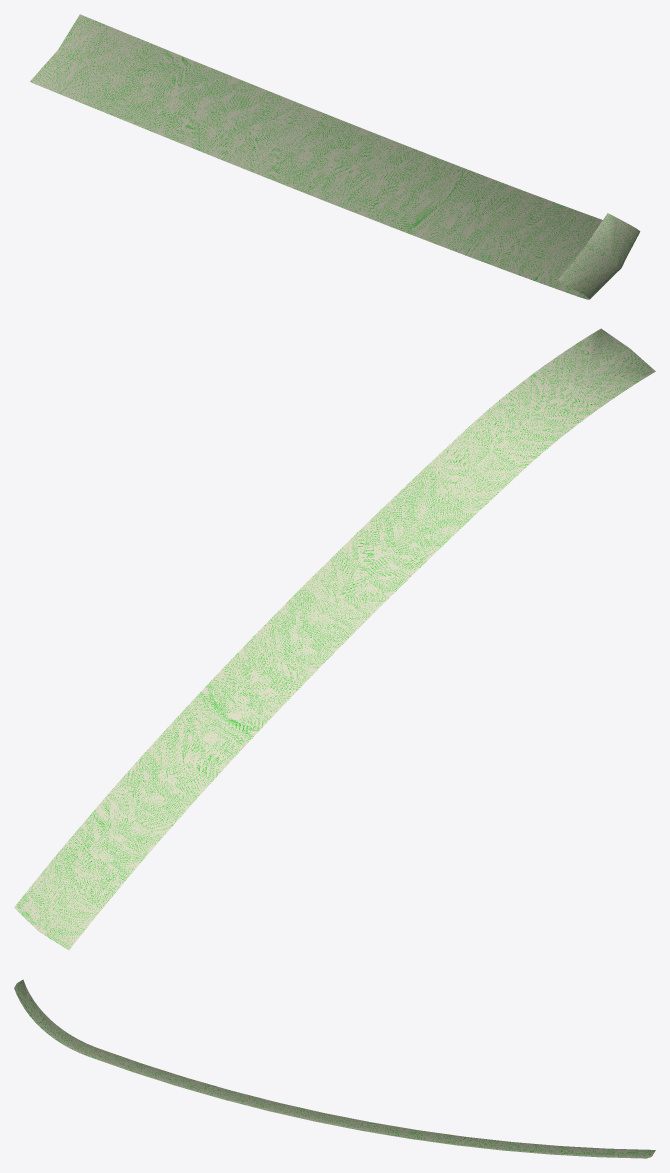
Rendered from original-85.obj.
3 renders of one model, top to bottom at view 1: azimuth 30°, elevation 25°; view 2: azimuth 150°, elevation 25°; view 3: azimuth 270°, elevation 25°, orthographic. The views are drawn at different scales.
Visible parts, largest first — view 1: #ID397; view 2: #ID397; view 3: #ID397.
Part boxes in pixels (bbox=[...]): #ID397: bbox=[30, 14, 640, 299]; #ID397: bbox=[14, 328, 655, 950]; #ID397: bbox=[14, 979, 655, 1158].
Bounding box in the file's own units: 0.00692 × 0.0112 × 0.0388.
